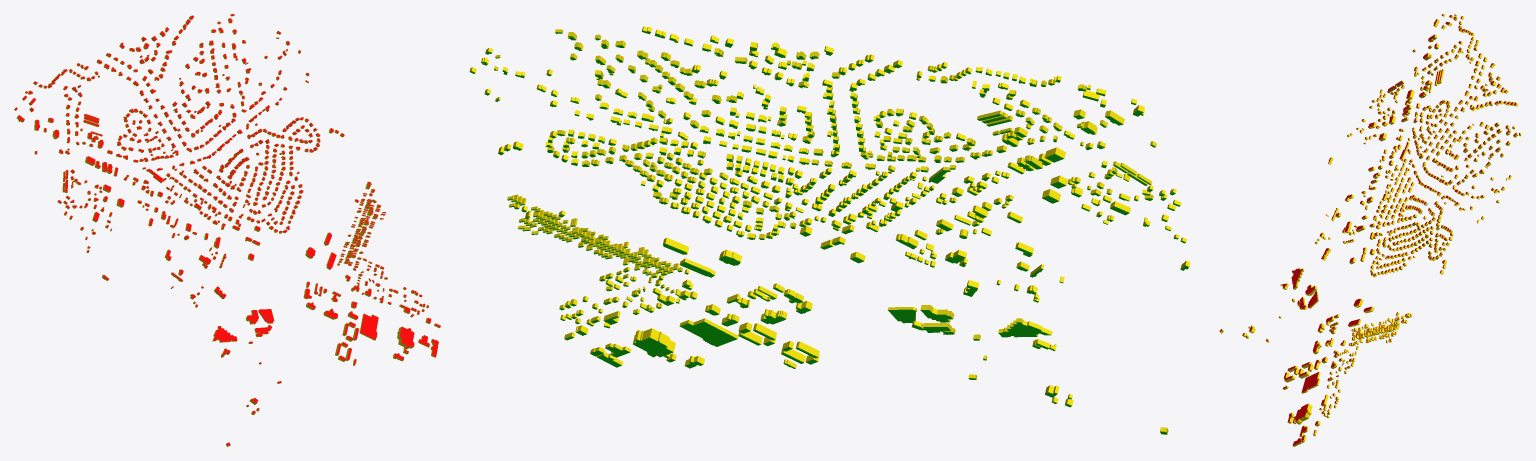
3 views of the same model, side by side, from view 1: azimuth 30°, elevation 25°; view 2: azimuth 150°, elevation 25°; view 3: azimuth 270°, elevation 25° (orthographic). The views are drawn at different scales.
Visible parts, largest first — view 1: mesh; view 2: mesh; view 3: mesh.
Boxes of the visible parts, x1,y1,x2,y2 form: mesh: (14,14,440,446); mesh: (469,26,1190,434); mesh: (1219,14,1521,446).
Size of the model in its own units: 2162 by 1682 by 1610.
